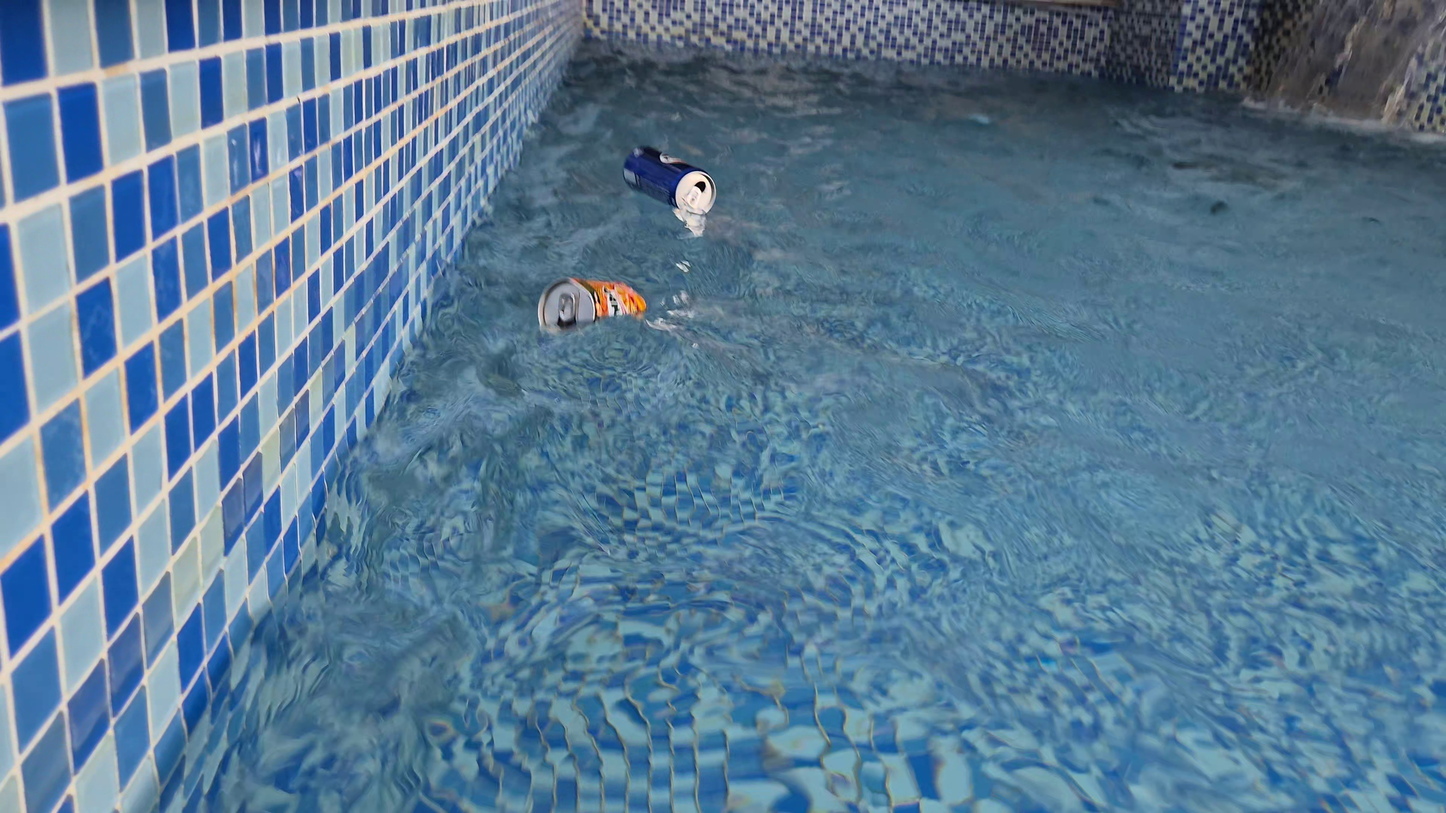debris: (618, 139, 722, 227), (536, 271, 651, 343)
